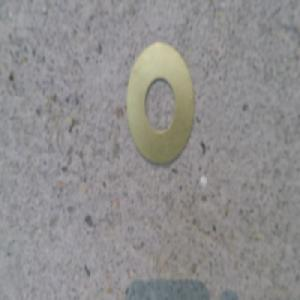Washer: (127, 43, 196, 173)
